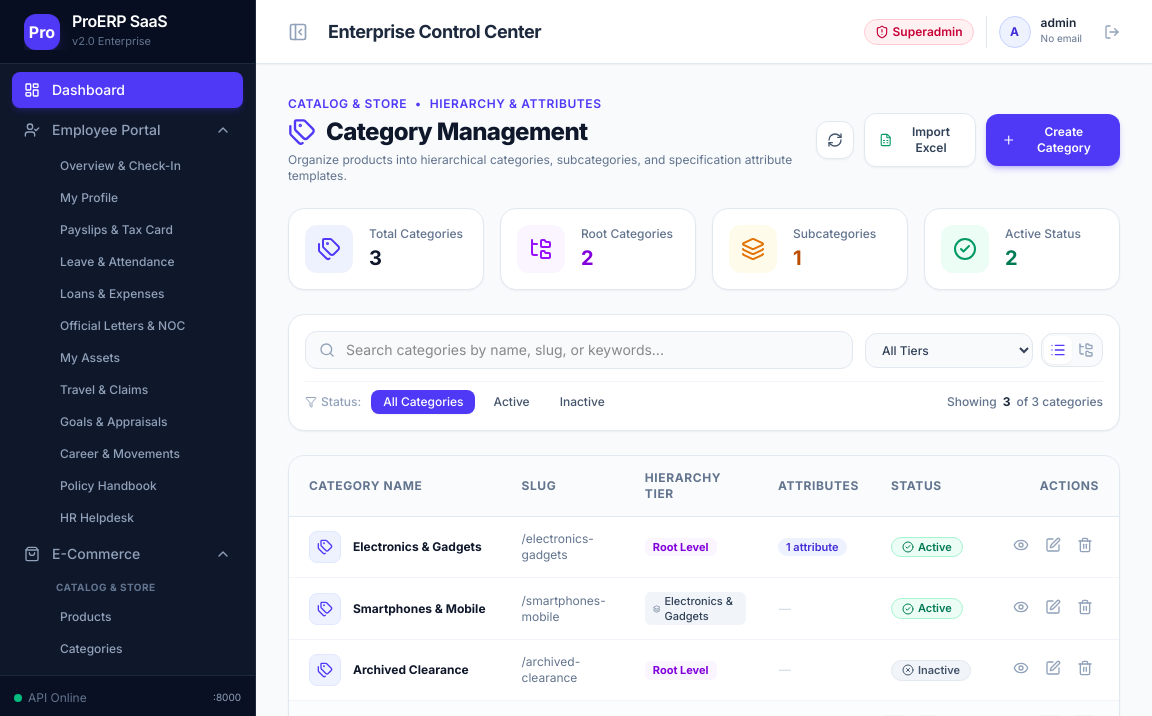
Test: Ecommerce Categories In-Place Non-Destructive Filtering Audit › filters by active/inactive status in-place
Click the button "Inactive" at {"x": 582, "y": 402}, box x1=548 y1=390 x2=617 y2=414
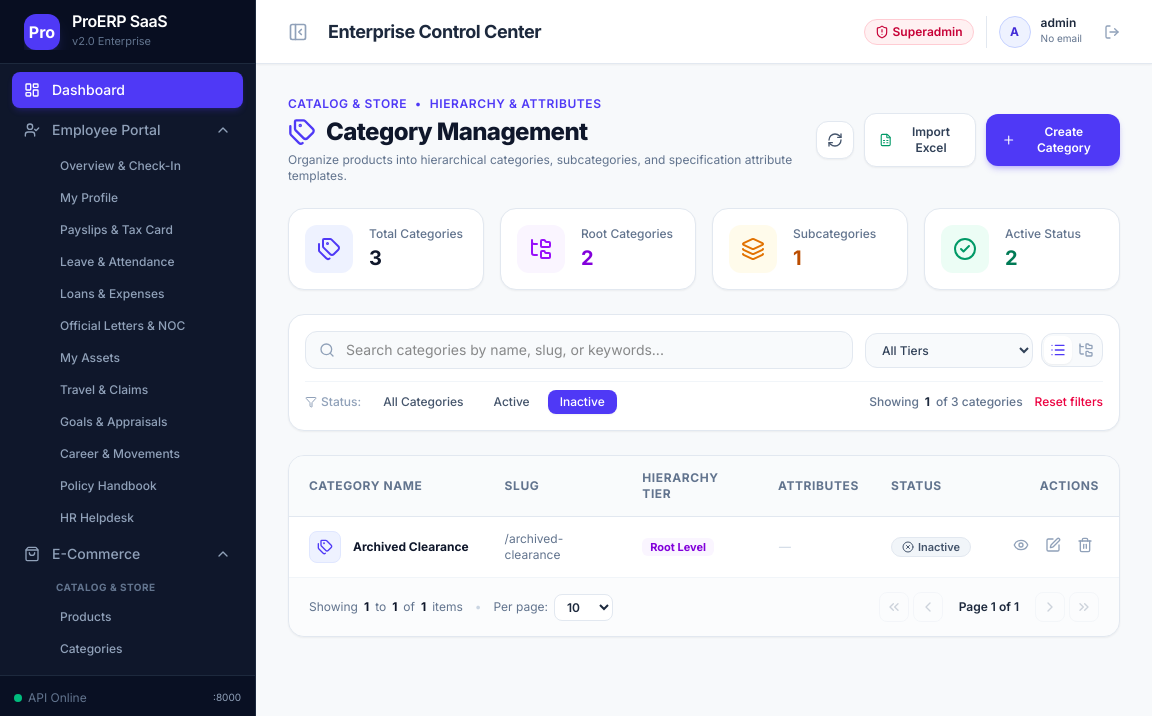
Expected: the text "Archived Clearance" is shown, x1=353 y1=539 x2=469 y2=555
Result: the text "Smartphones & Mobile" is gone
